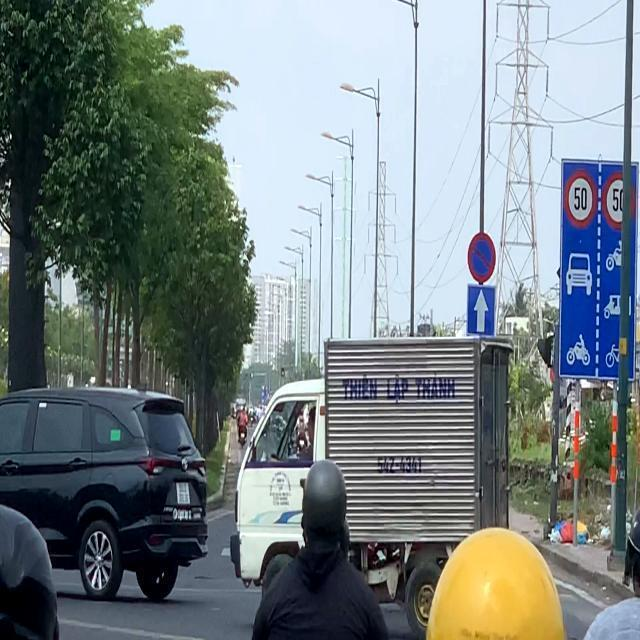127-toc-do-toi-da-50: (564, 172, 596, 224), (606, 172, 638, 224)
131a-cam-do-xe: (468, 232, 498, 284)
